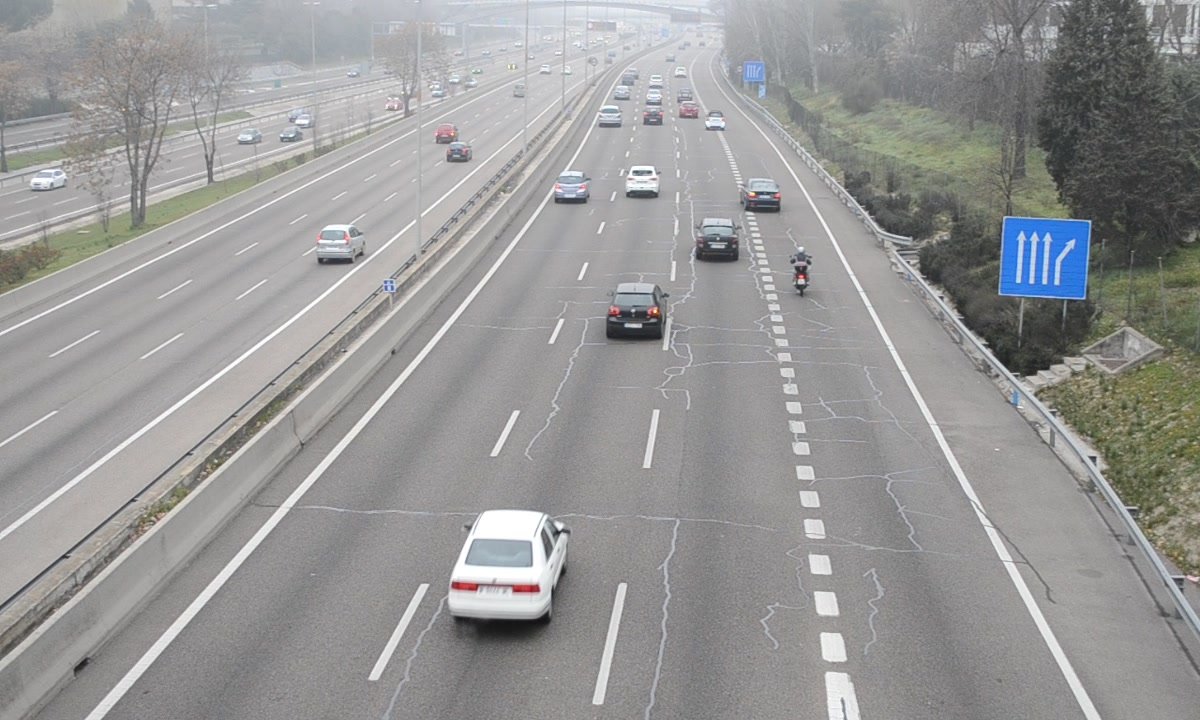car: (450, 511, 570, 623), (606, 282, 667, 342), (694, 218, 740, 260), (741, 177, 782, 214), (553, 169, 591, 202), (625, 165, 662, 197), (598, 102, 623, 129)
motorcycle: (790, 244, 813, 298)
